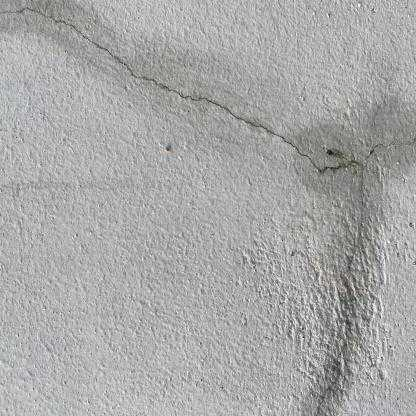crack: (4, 3, 413, 411)
